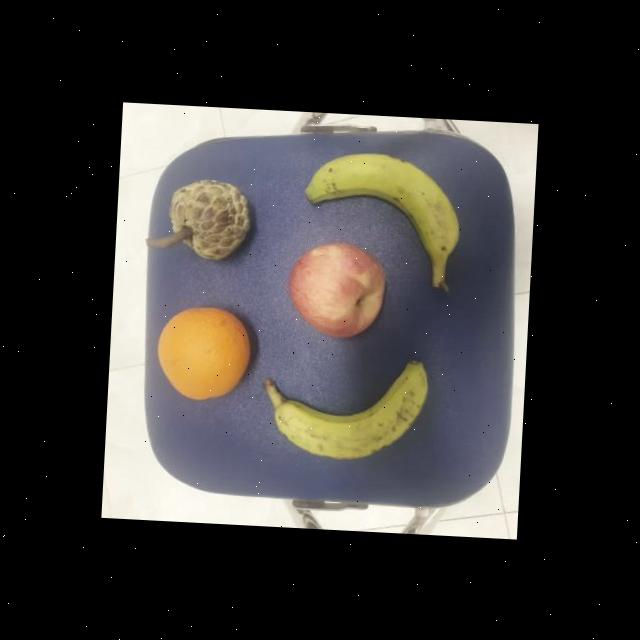Sakya fruit: (163, 175, 254, 268)
apple: (281, 236, 392, 339)
banana: (300, 148, 462, 292), (258, 352, 432, 468)
orange: (152, 303, 255, 407)
